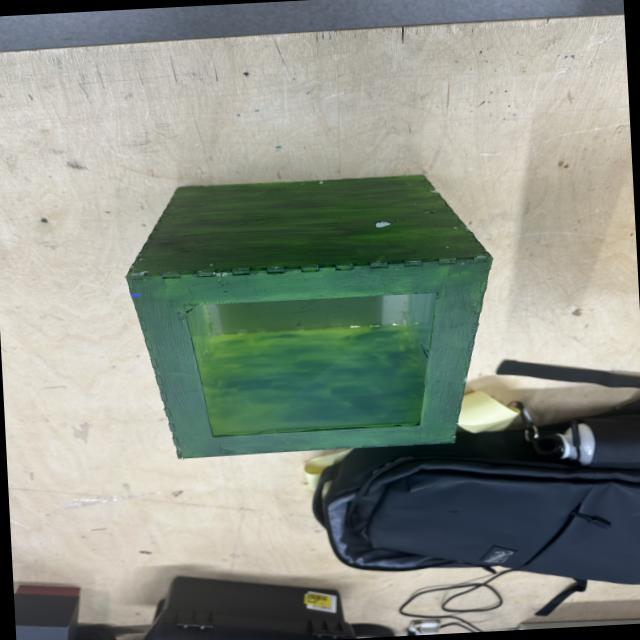green_bin: (122, 168, 504, 463)
